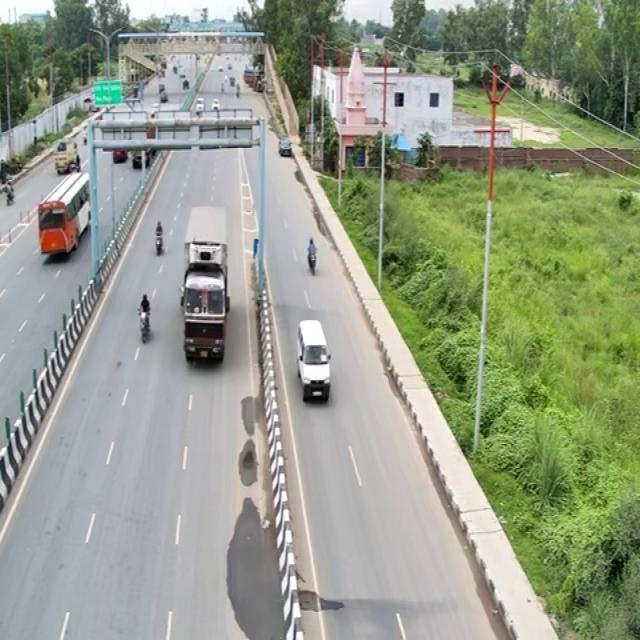car: (388, 234, 447, 302)
